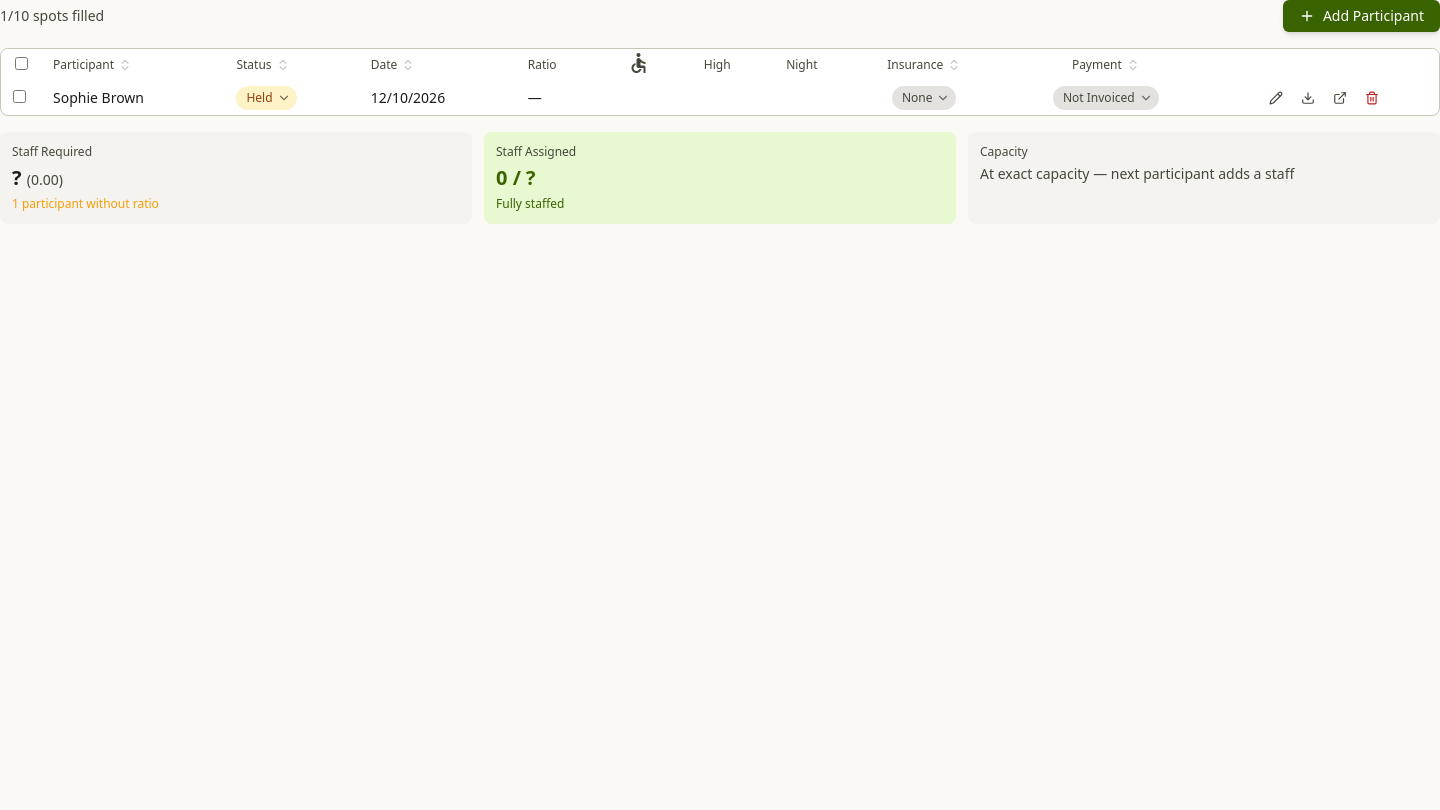
Test case: BookingsTab — the budget warning of a booking just confirmed › shows the warning of a booking added as Confirmed, after the form has closed
Step 1. Click the button "Add Participant" → (1361, 16), box [1283,0,1439,32]
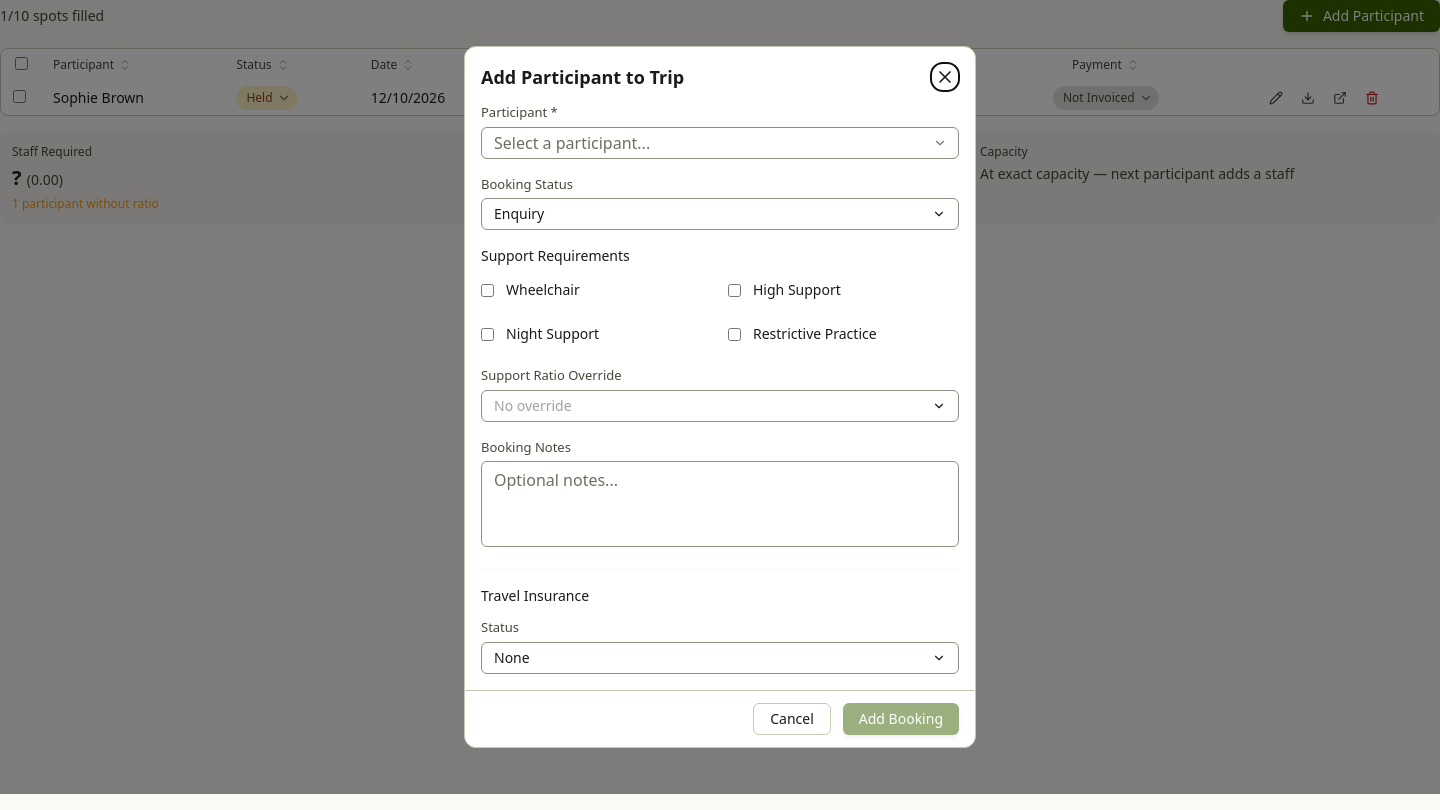
Step 2. Click the dropdown labelled "Participant *" → (720, 143), box [481,127,959,159]
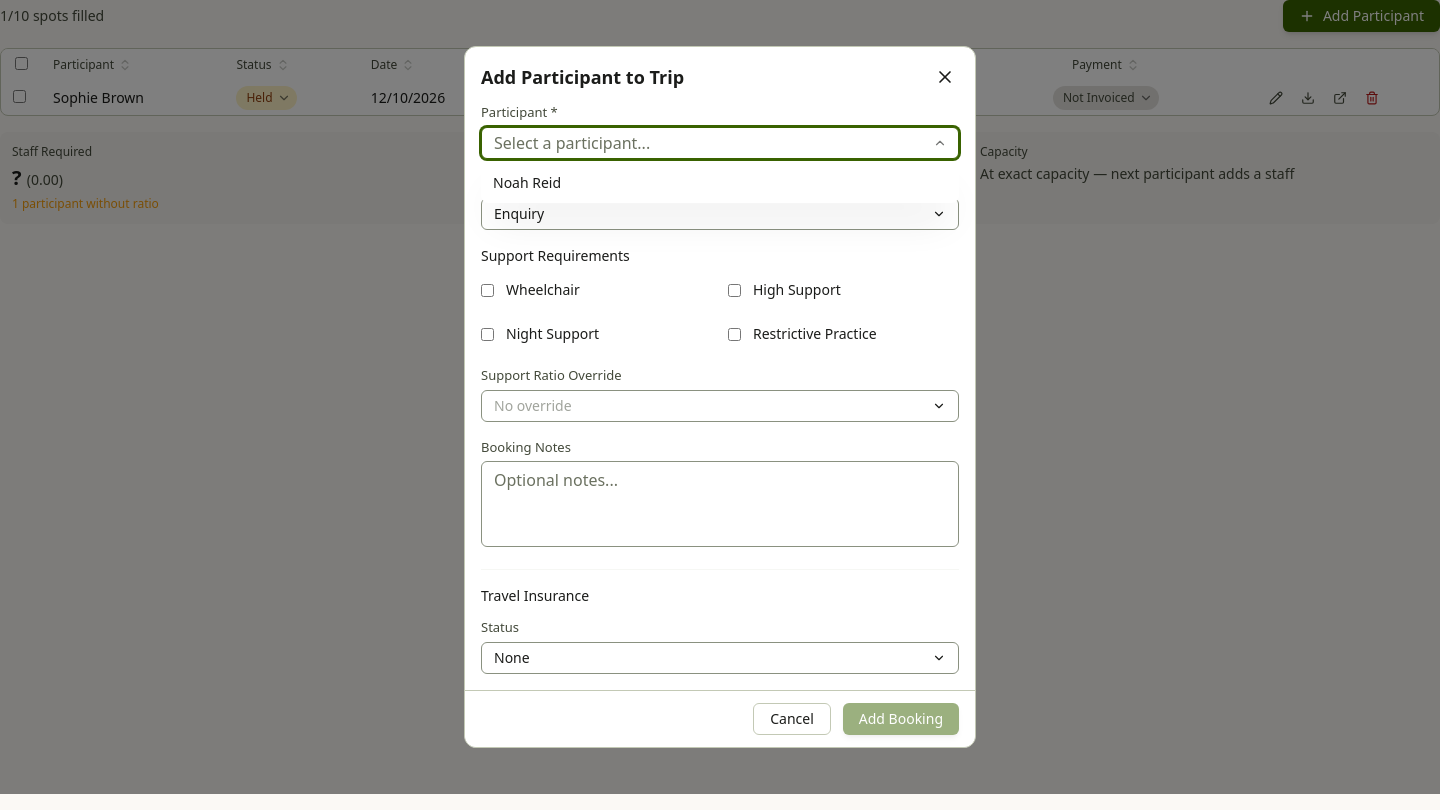
Step 3. Click the option "Noah Reid" → (527, 182), box [493,173,561,192]
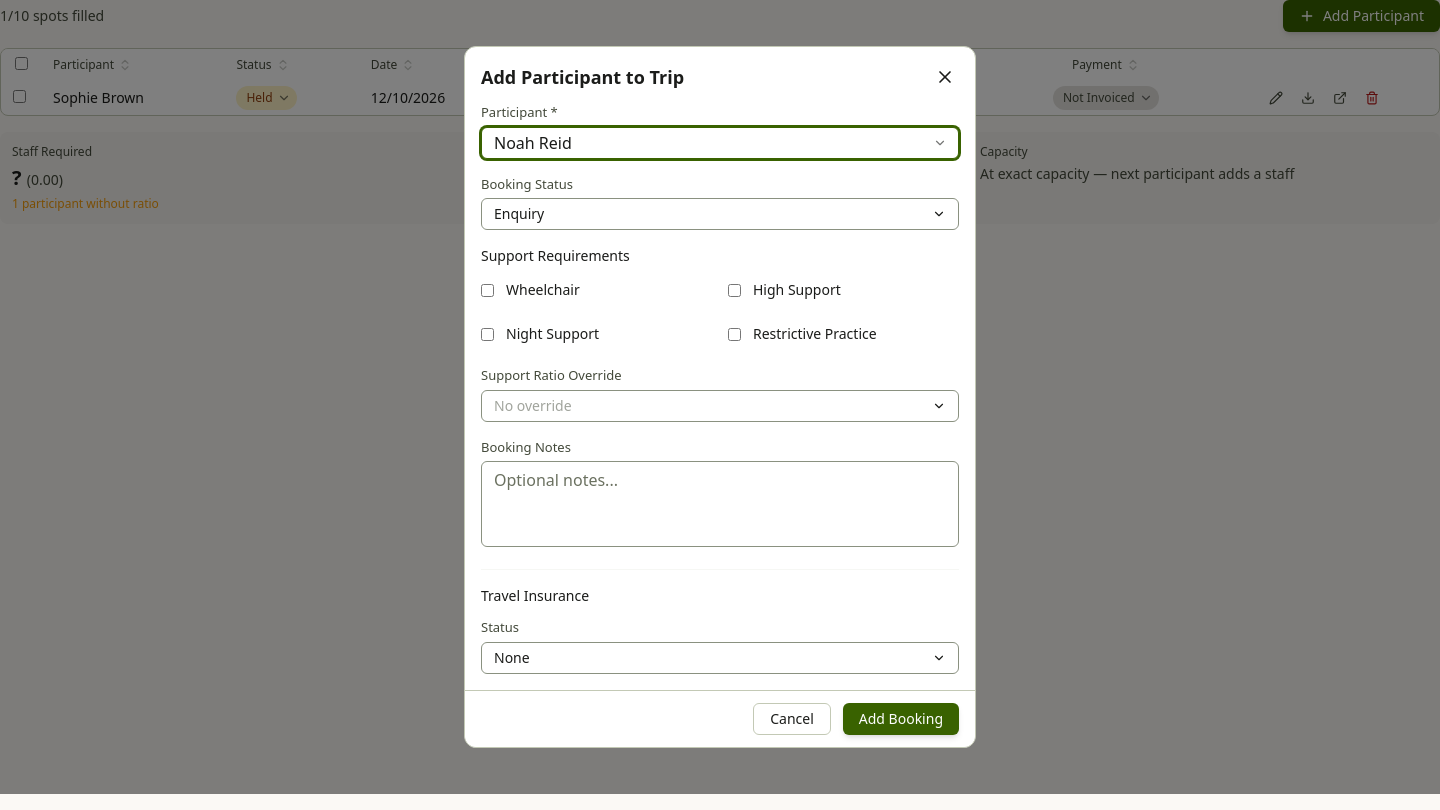
Step 4. Click the button named "Booking Status" → (519, 214), box [481,198,959,230]
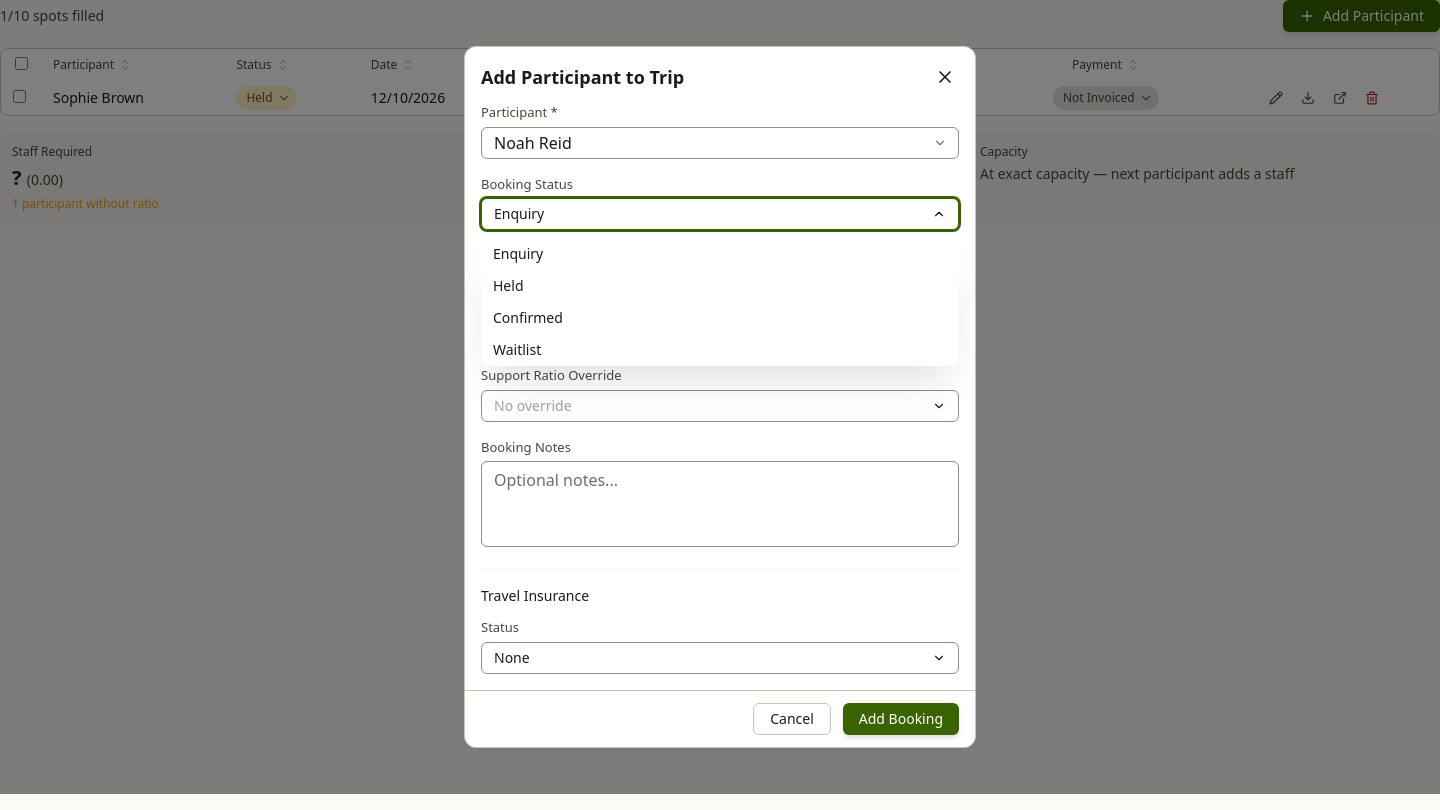
Step 5. Click the option "Confirmed" → (528, 318), box [493,308,563,327]
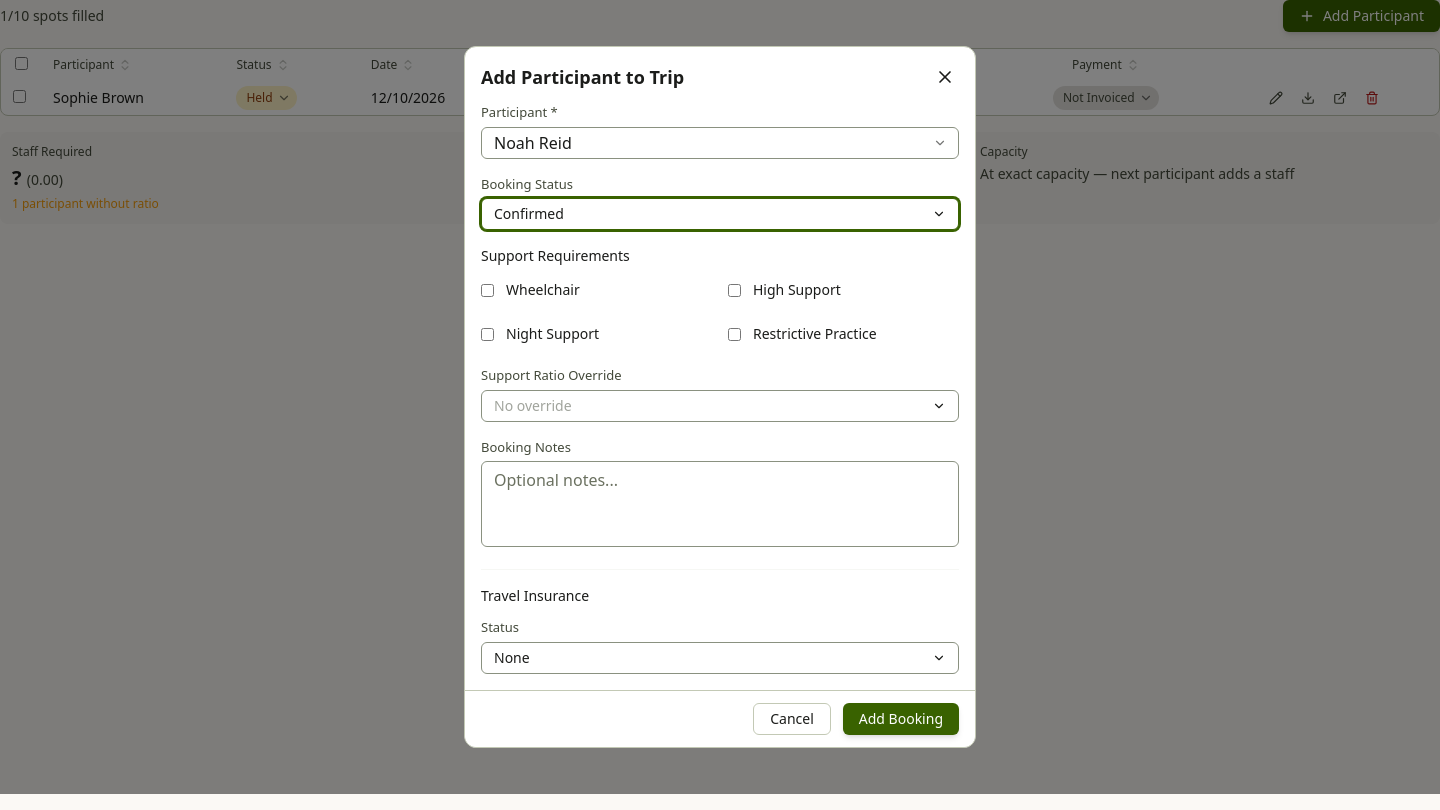
Step 6. Click the button "Add Booking" → (901, 719), box [843,703,959,735]
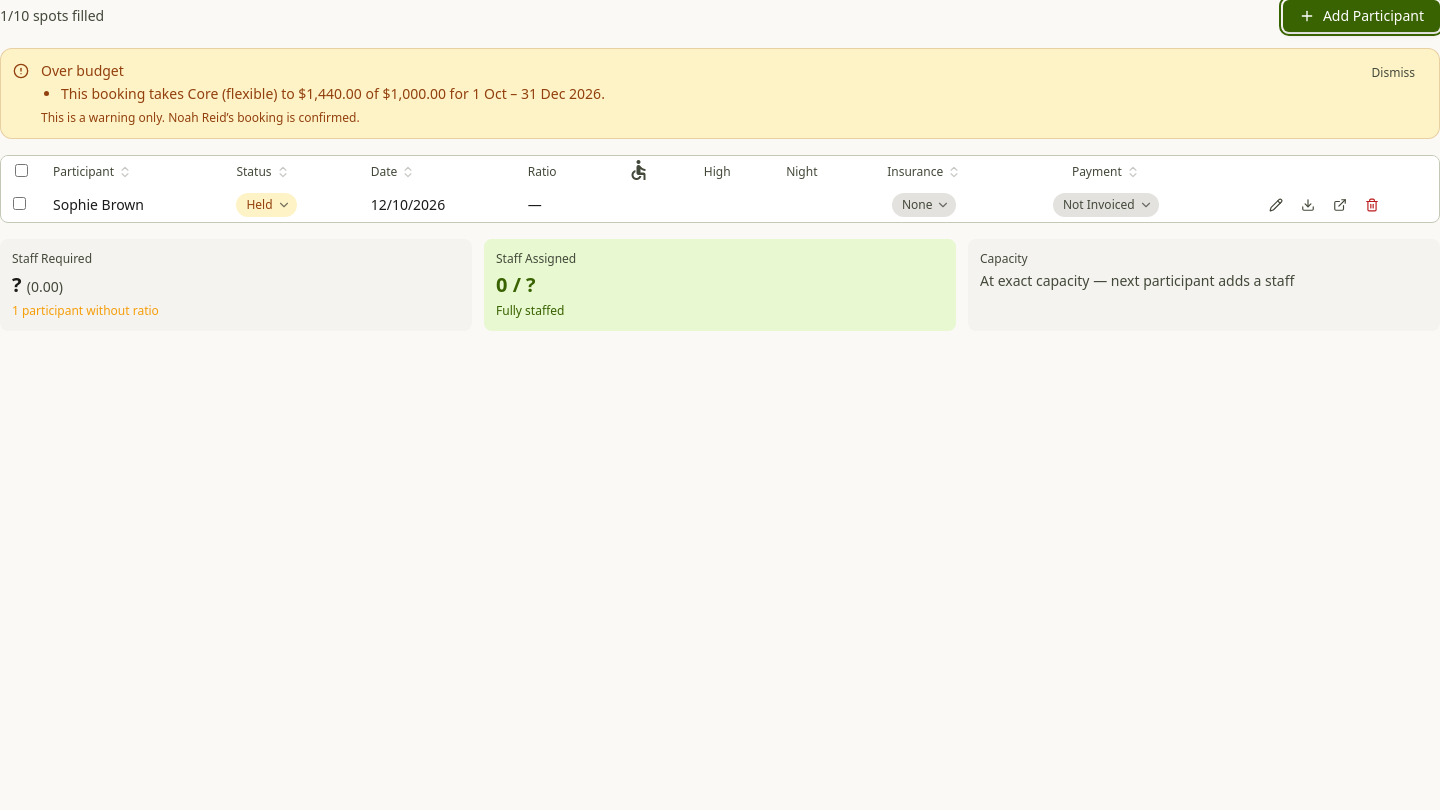
Expected: the heading "Add Participant to Trip" is gone
Expected: the text "This is a warning only. Noah Reid’s booking is confirmed." is shown, [41,108,360,126]
